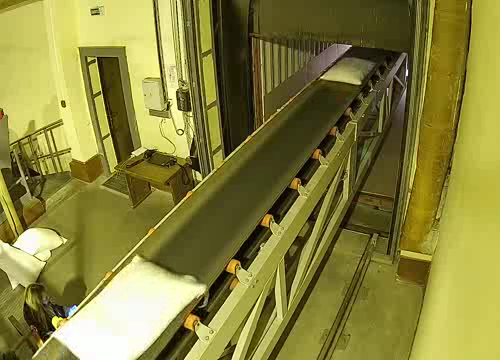bag: (48, 244, 216, 360), (316, 53, 383, 88)
